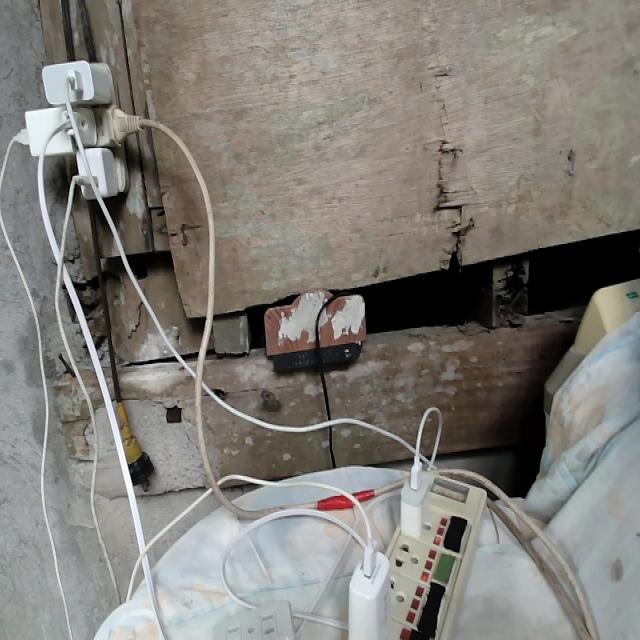-: (11, 51, 152, 205)
